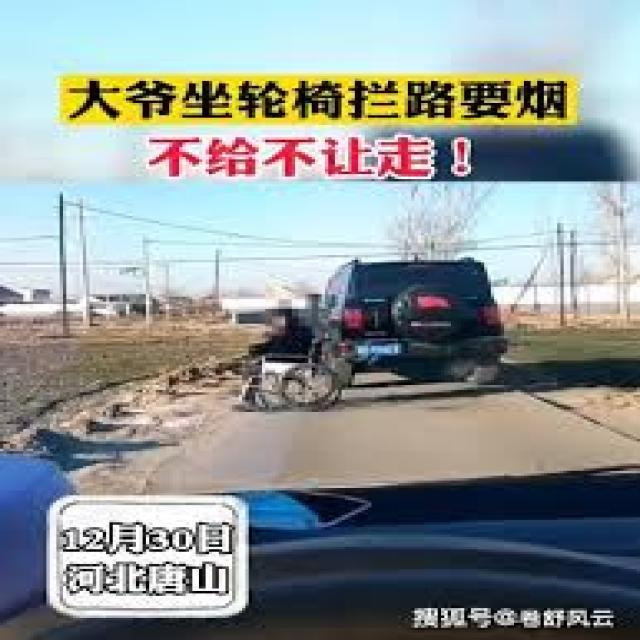wheelchairs: (222, 329, 368, 424)
